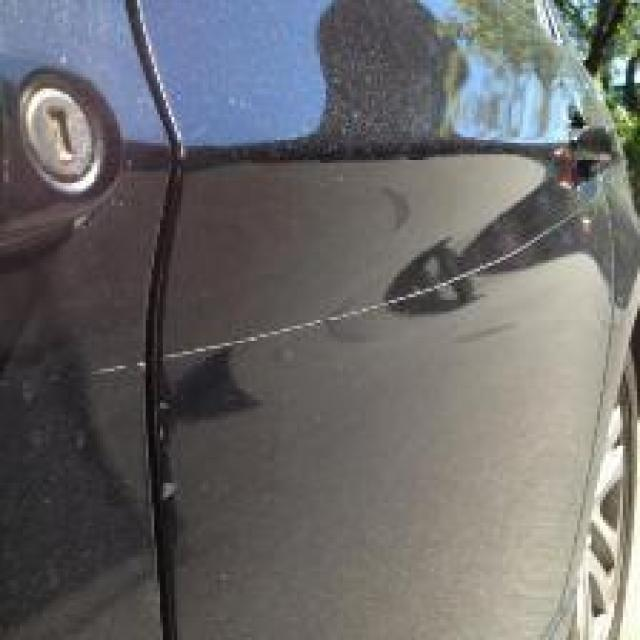damaged: (92, 192, 638, 388)
